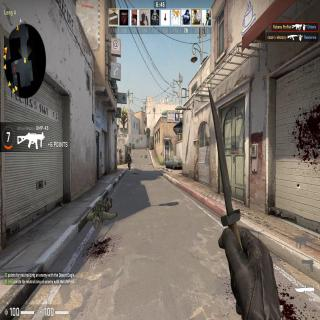CT-Body: (127, 154, 131, 168), (128, 146, 132, 153)
CT-Head: (128, 154, 130, 156), (129, 146, 130, 148)
